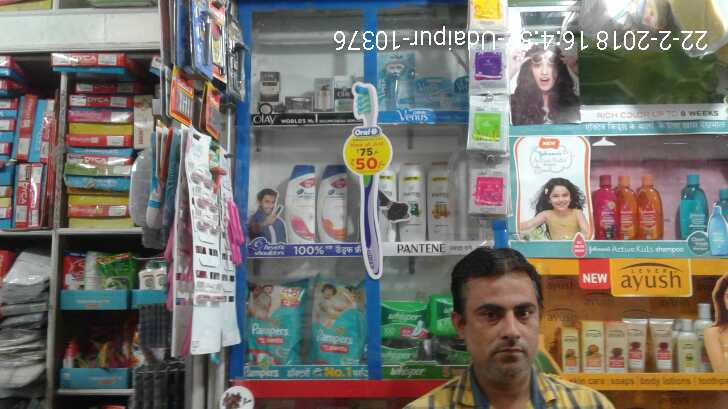gillete: (192, 1, 225, 81), (229, 17, 250, 98), (165, 71, 190, 124), (204, 86, 216, 135)
venus: (164, 161, 218, 354), (225, 190, 253, 272), (381, 48, 412, 109), (418, 79, 454, 106), (454, 78, 471, 106)
